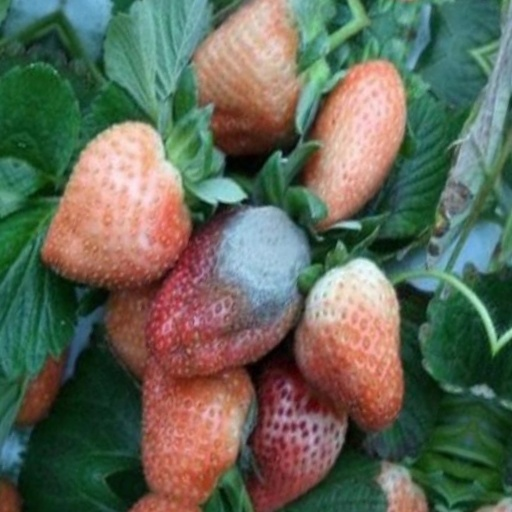Gray Mold: (195, 121, 345, 310)
